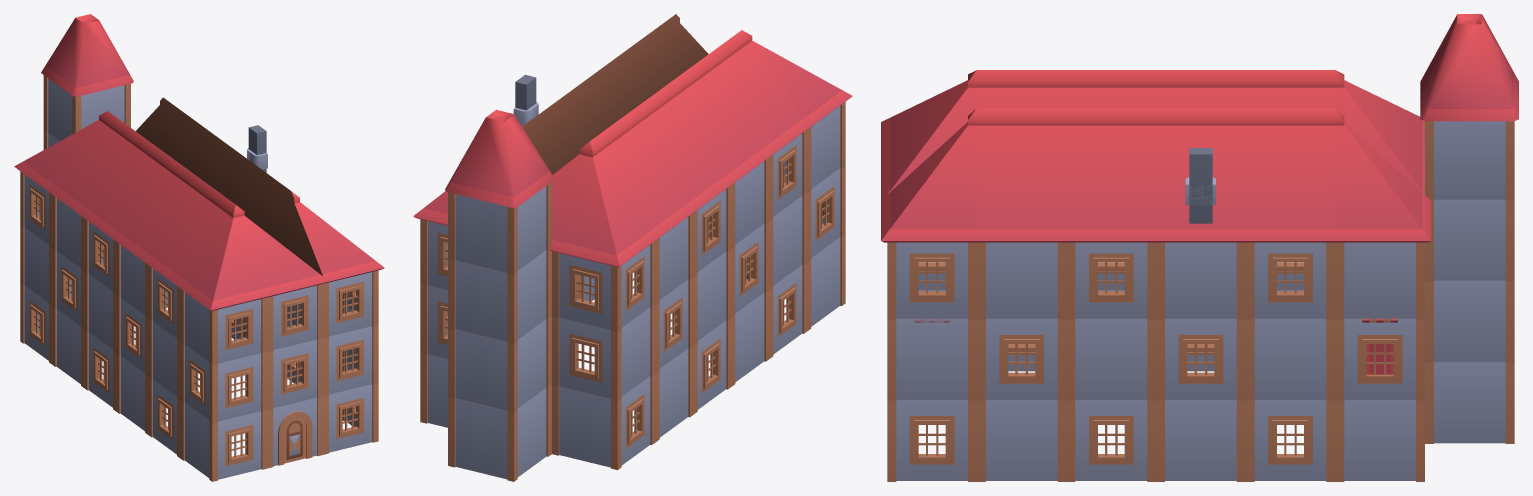
The model's file is hall.glb.
3 renders of one model, left to right at view 1: azimuth 30°, elevation 25°; view 2: azimuth 150°, elevation 25°; view 3: azimuth 270°, elevation 25°, orthographic. The views are drawn at different scales.
Parts seen in each view (by area): view 1: hall; view 2: hall; view 3: hall.
Boxes of the visible parts, x1,y1,x2,y2 form: hall: (14, 14, 384, 481); hall: (413, 14, 852, 481); hall: (881, 14, 1518, 481).
Bounding box in the file's own units: 9.42 × 15 × 21.36.
Materials: 92 (92 with a texture image).
